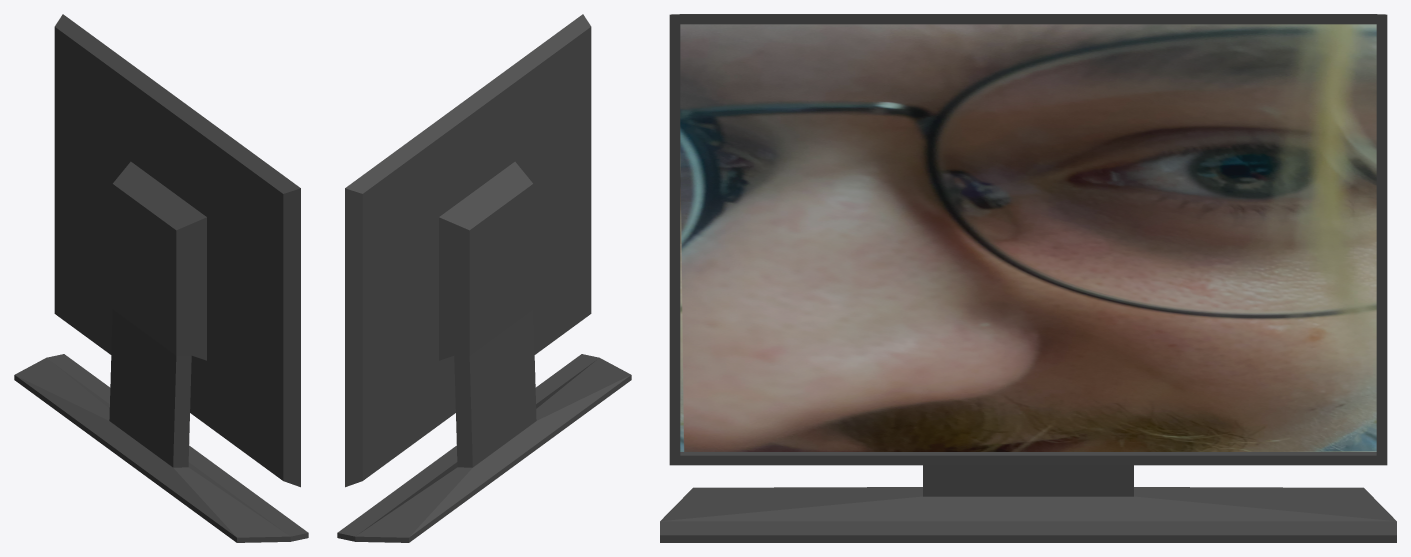
File: STANDING TV.fbx
3 views of the same model, side by side, from view 1: azimuth 30°, elevation 25°; view 2: azimuth 150°, elevation 25°; view 3: azimuth 270°, elevation 25° (orthographic). The views are drawn at different scales.
Visible parts, largest first — view 1: Cube; view 2: Cube; view 3: Cube.
Part boxes in pixels (bbox=[...]): Cube: bbox=[14, 14, 308, 542]; Cube: bbox=[337, 14, 631, 542]; Cube: bbox=[660, 14, 1396, 542].
Bounding box in the file's own units: 58.11 × 318 × 405.
